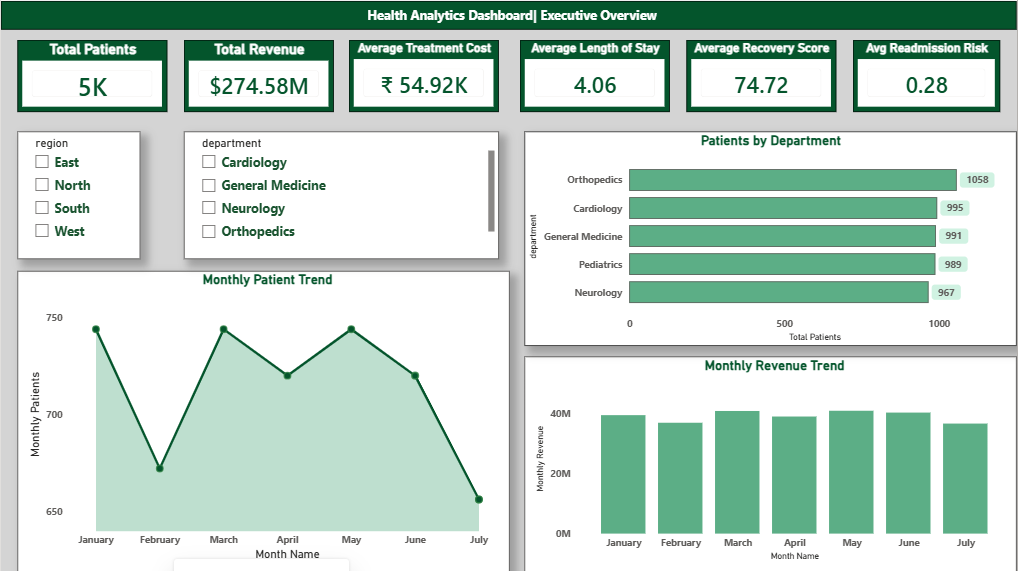

The page's visual inventory and layout, read from the dashboard file:
{"tool":"powerbi","page":{"name":"Executive Overview","canvas":[1280,720],"ordinal":0},"visuals":[{"type":"cardVisual","title":"Total Patients","fields":{"Data":["Measures (2).Total Patients"]},"box":[20.8,49.1,189,90.7],"z":0},{"type":"textbox","box":[0,0,1279.4,35.9],"z":1000},{"type":"cardVisual","title":"Total Revenue","fields":{"Data":["Measures (2).Total Revenue"]},"box":[230.6,49.1,189,90.7],"z":2000},{"type":"cardVisual","title":"Average Treatment Cost","fields":{"Data":["Measures (2).Average Treatment Cost"]},"box":[438.4,49.1,189,90.7],"z":3000},{"type":"cardVisual","title":"Average Length of Stay","fields":{"Data":["Measures (2).Average Length of Stay"]},"box":[653.9,49.1,189,90.7],"z":4000},{"type":"cardVisual","title":"Average Recovery Score","fields":{"Data":["Measures (2).Average Recovery Score"]},"box":[863.6,49.1,189,90.7],"z":5000},{"type":"cardVisual","title":"Avg Readmission Risk","fields":{"Data":["Measures (2).Average Readmission Risk"]},"box":[1073.4,49.1,185.2,90.7],"z":6000},{"type":"lineChart","title":"Monthly Patient Trend","fields":{"Category":["PatientAnalytics.Month Name"],"Y":["Measures (2).Monthly Patients"]},"box":[20.8,340.2,619.8,379.8],"z":7000},{"type":"clusteredColumnChart","title":"Monthly Revenue Trend","fields":{"Category":["PatientAnalytics.Month Name"],"Y":["Measures (2).Monthly Revenue"]},"box":[659.5,447.9,619.8,272.1],"z":8000},{"type":"clusteredBarChart","title":"Patients by Department","fields":{"Category":["PatientAnalytics.department"],"Y":["Measures (2).Total Patients"]},"box":[659.5,164.4,619.8,270.2],"z":9000},{"type":"slicer","fields":{"Values":["PatientAnalytics.region"]},"box":[20.8,164.4,155,160.6],"z":10000},{"type":"slicer","fields":{"Values":["PatientAnalytics.department"]},"box":[230.6,164.4,396.9,160.6],"z":11000}]}

Visuals, with their boxes in screenshot pixels (x1, y1, x2, y2), scaled from the page's 1280x720 canvas onto the 1018x571 screenshot:
"Total Patients" cardVisual: bbox=(17, 39, 167, 111)
textbox: bbox=(0, 0, 1017, 28)
"Total Revenue" cardVisual: bbox=(183, 39, 334, 111)
"Average Treatment Cost" cardVisual: bbox=(349, 39, 499, 111)
"Average Length of Stay" cardVisual: bbox=(520, 39, 670, 111)
"Average Recovery Score" cardVisual: bbox=(687, 39, 837, 111)
"Avg Readmission Risk" cardVisual: bbox=(854, 39, 1001, 111)
"Monthly Patient Trend" lineChart: bbox=(17, 270, 509, 570)
"Monthly Revenue Trend" clusteredColumnChart: bbox=(525, 355, 1017, 570)
"Patients by Department" clusteredBarChart: bbox=(525, 130, 1017, 345)
slicer - PatientAnalytics.region: bbox=(17, 130, 140, 258)
slicer - PatientAnalytics.department: bbox=(183, 130, 499, 258)
